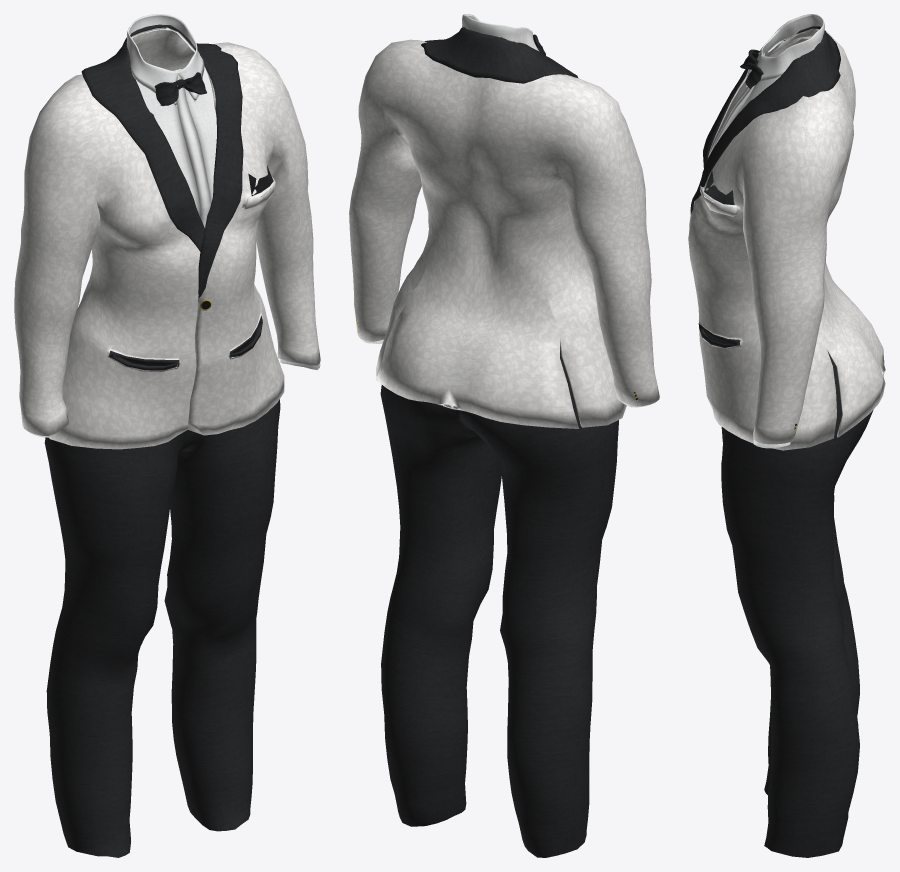
File: full_dinner_suit.gltf
3 views of the same model, side by side, from view 1: azimuth 30°, elevation 25°; view 2: azimuth 150°, elevation 25°; view 3: azimuth 270°, elevation 25° (orthographic). The views are drawn at different scales.
Parts seen in each view (by area): view 1: full_dinner_suit; view 2: full_dinner_suit; view 3: full_dinner_suit.
Part boxes in pixels (x1,y1,x2,y2): full_dinner_suit: (14,14,320,857); full_dinner_suit: (349,14,659,857); full_dinner_suit: (688,14,885,857).
Size of the model in its own units: 0.506 by 1.33 by 0.2987.
Materials: 1 (1 with a texture image).
